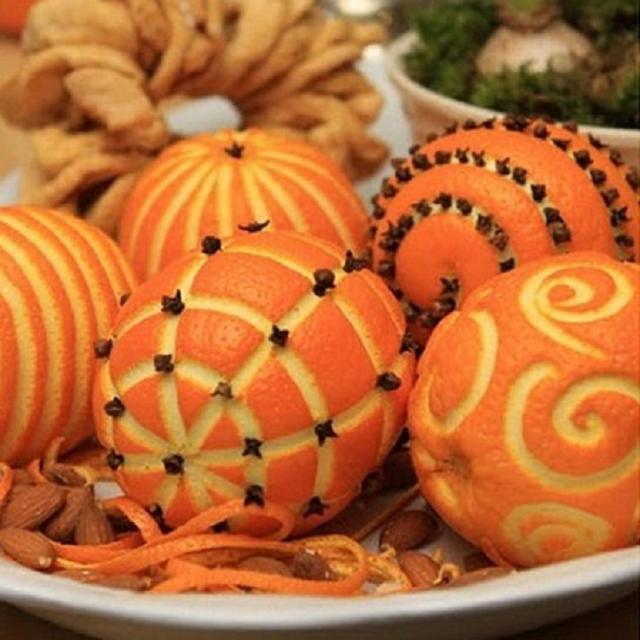orange: (82, 211, 425, 535)
